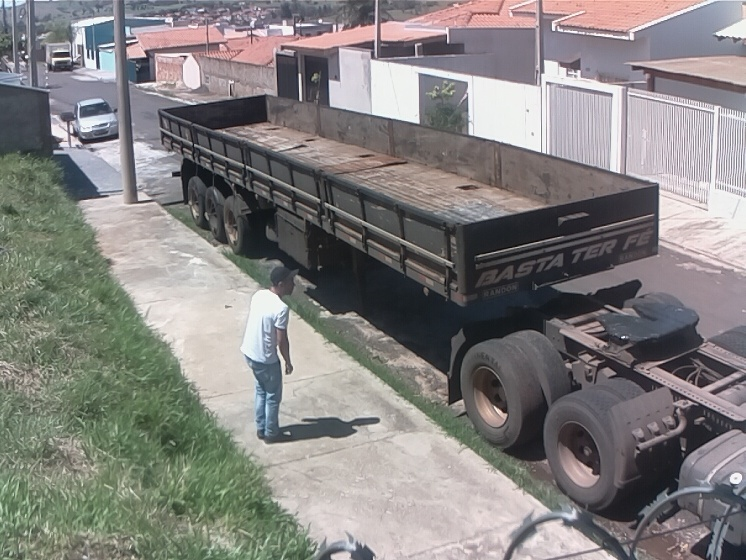person: (239, 265, 298, 446)
